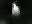person: (11, 2, 22, 18)
